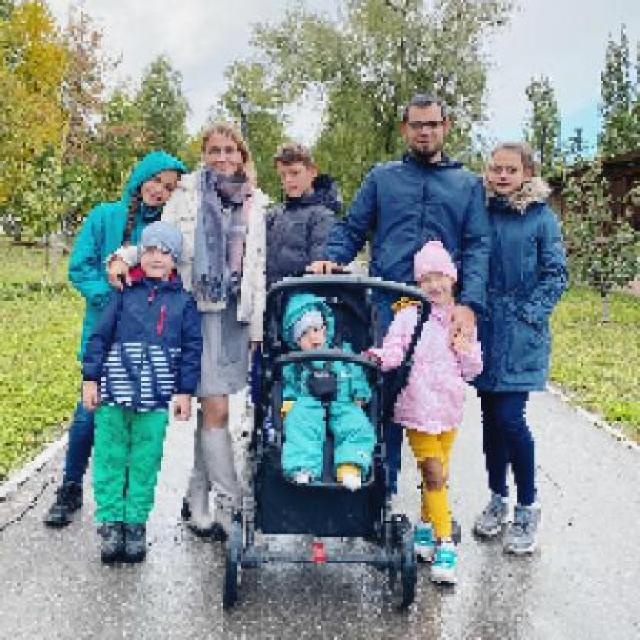child: (358, 237, 484, 586), (80, 220, 200, 560), (274, 290, 377, 490)
